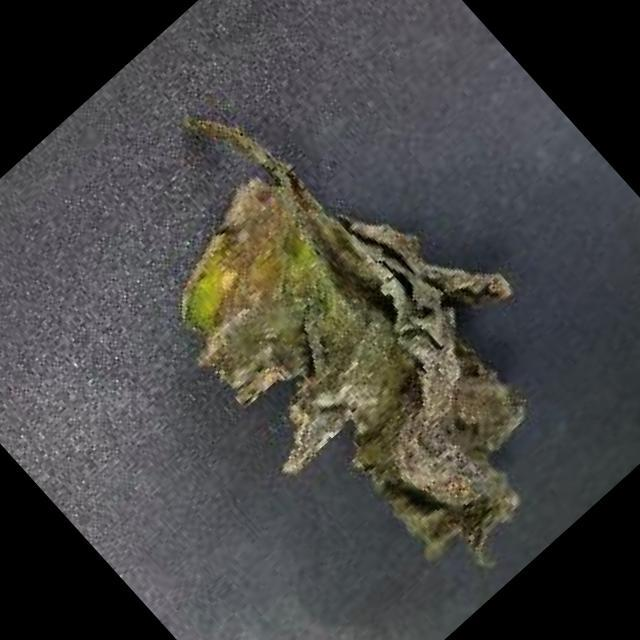Tomato late blight leaf: (122, 90, 638, 620)
